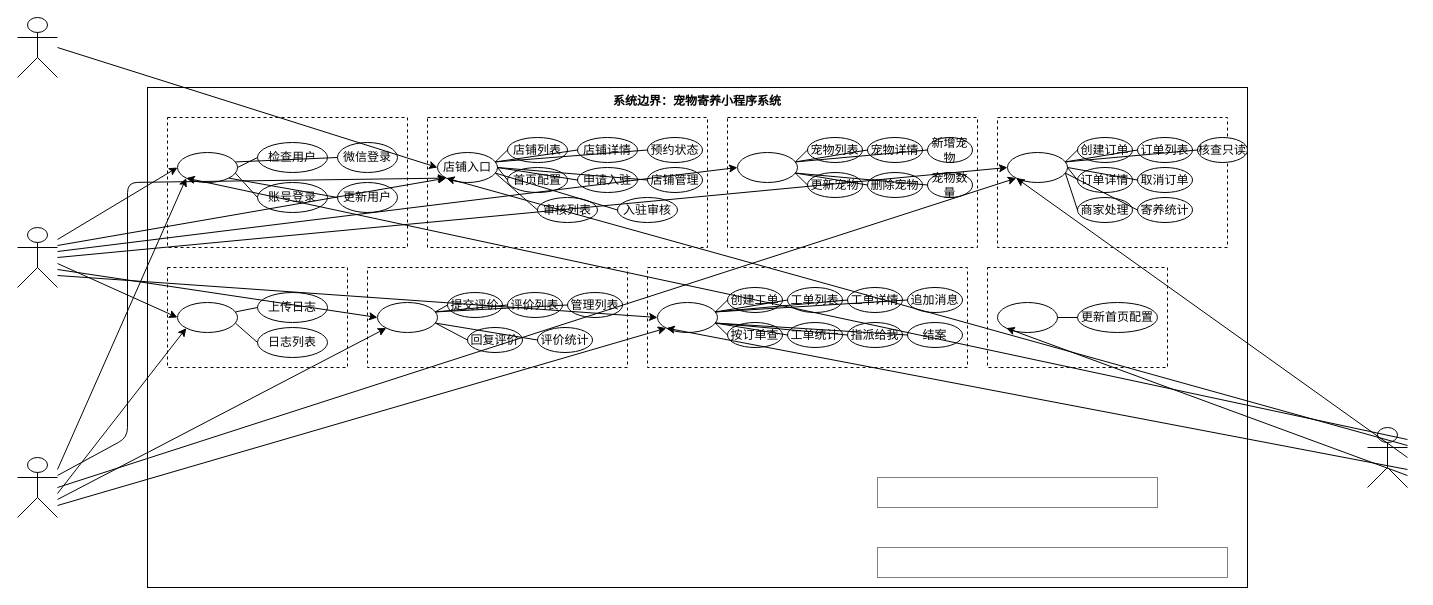
Some shapes in this 1433 by 605 pixel diagram are drawn without their labels. The box of each missing label's shape, as (x1, y1, x2, y2) in pixels:
商家 (shop): (16, 456, 58, 518)
宠物入口: (736, 152, 798, 182)
宠物管理: (726, 116, 978, 248)
寄养日志: (166, 266, 348, 368)
工单入口: (656, 302, 718, 332)
店铺与入驻: (426, 116, 708, 248)
日志入口: (176, 302, 238, 332)
普通用户 (user): (16, 226, 58, 288)
注1：管理员禁止下单与改订单状态（仅只读核查）: (876, 476, 1158, 508)
注2：同一订单仅允许存在一个未结案纠纷工单（open/processing 幂等）: (876, 546, 1228, 578)
游客: (16, 16, 58, 78)
管理员 (admin): (1366, 426, 1408, 488)
纠纷工单: (646, 266, 968, 368)
订单: (996, 116, 1228, 248)
订单入口: (1006, 152, 1068, 182)
认证与用户: (166, 116, 408, 248)
认证入口: (176, 152, 238, 182)
评价: (366, 266, 628, 368)
评价入口: (376, 302, 438, 332)
配置入口: (996, 302, 1058, 332)
首页配置管理: (986, 266, 1168, 368)
